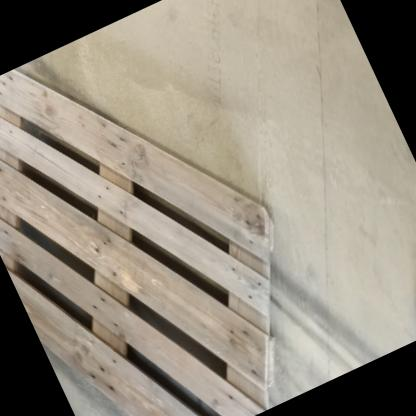BoxFace: (0, 66, 282, 416)
